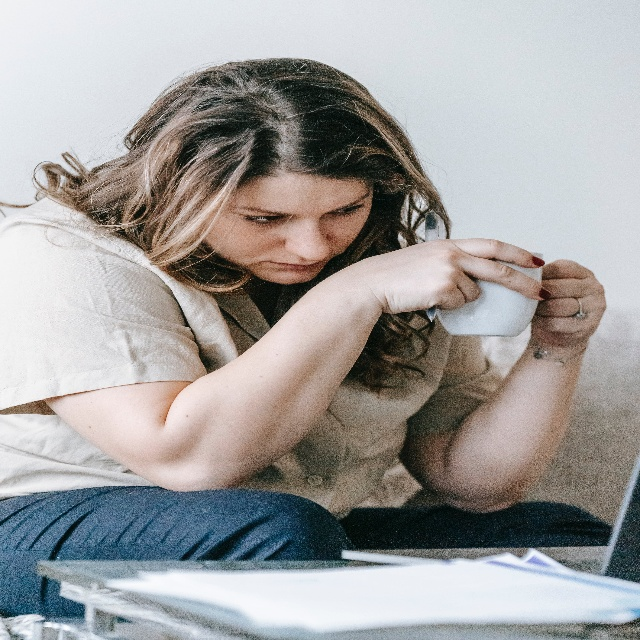Sin_guantes: (358, 237, 552, 314), (532, 258, 608, 342)
